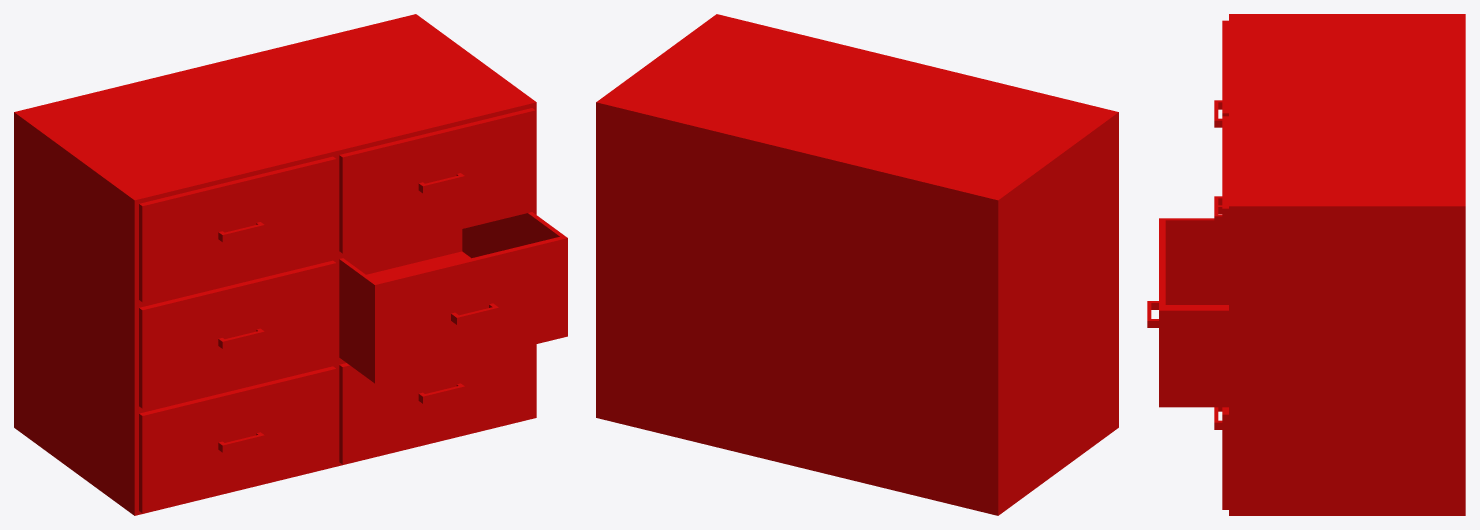
Rendered from Gabinete.fbx.
The picture shows the model from 3 angles, left to right: view 1: azimuth 30°, elevation 25°; view 2: azimuth 150°, elevation 25°; view 3: azimuth 270°, elevation 25°; orthographic projection.
Parts seen in each view (by area): view 1: GABINETE; view 2: GABINETE; view 3: GABINETE.
Part boxes in pixels (left/top/right/bottom): GABINETE: left=14, top=14, right=567, bottom=515; GABINETE: left=596, top=14, right=1118, bottom=515; GABINETE: left=1147, top=14, right=1465, bottom=515.
Bounding box in the file's own units: 58.56 × 43.92 × 40.9.
